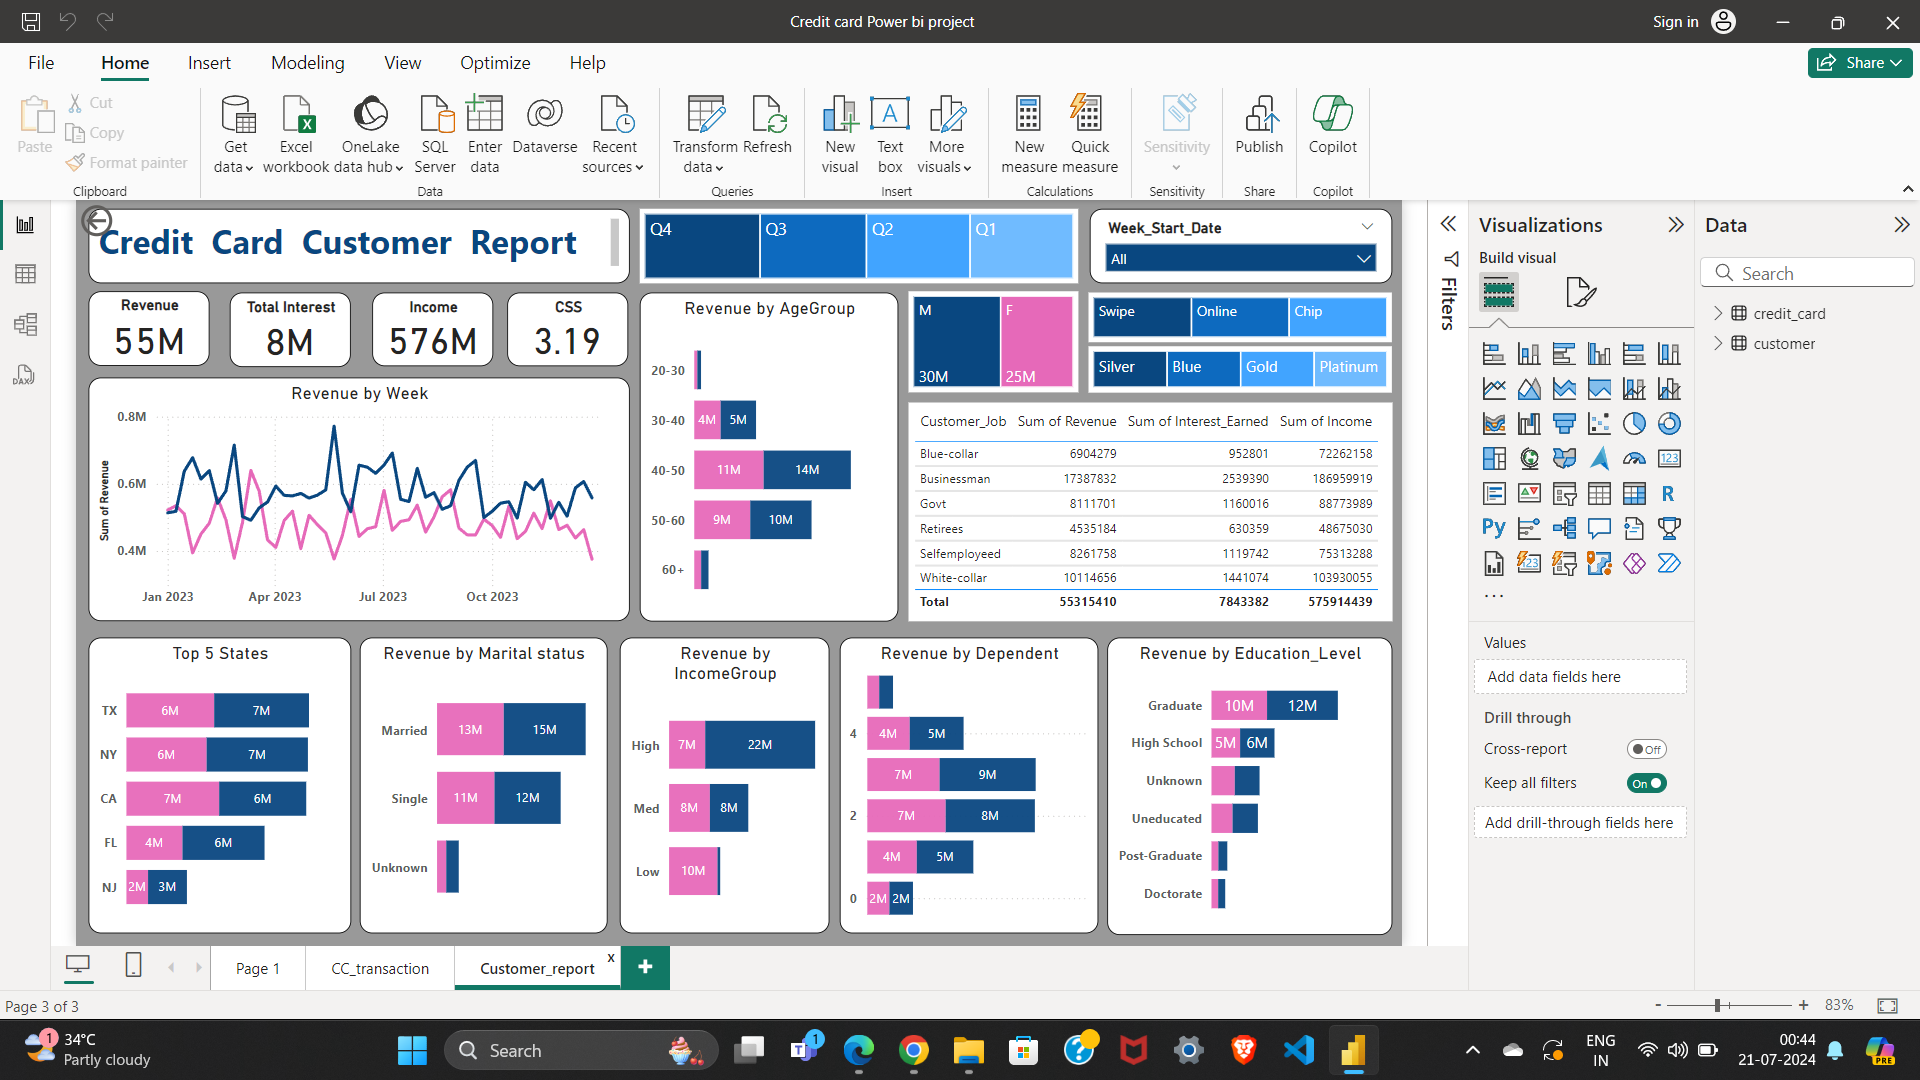

What the dashboard file says about the page in this screenshot:
{"tool":"powerbi","page":{"name":"Customer_report","canvas":[1280,720],"ordinal":2},"visuals":[{"type":"textbox","box":[12.1,8.4,522.4,72.4],"z":0},{"type":"tableEx","fields":{"Values":["customer.Customer_Job","Sum(credit_card.Revenue)","Sum(credit_card.Interest_Earned)","Sum(customer.Income)"]},"box":[803.5,195.4,466.9,211.1],"z":1000},{"type":"card","title":"Revenue","fields":{"Values":["Sum(credit_card.Revenue)"]},"box":[12.1,88.1,117,72.4],"z":2000},{"type":"card","title":"Total Interest","fields":{"Values":["Sum(credit_card.Interest_Earned)"]},"box":[148.4,89.3,117,72.4],"z":3000},{"type":"card","title":"Income","fields":{"Values":["Sum(customer.Income)"]},"box":[285.9,89.3,117,71.2],"z":4000},{"type":"card","title":"CSS","fields":{"Values":["Avg(customer.Cust_Satisfaction_Score)"]},"box":[416.2,89.3,117,71.2],"z":5000},{"type":"slicer","fields":{"Values":["credit_card.Week_Start_Date"]},"box":[978.4,8.4,292,72.4],"z":6000},{"type":"treemap","fields":{"Group":["credit_card.Qtr"],"Values":["Avg(credit_card.Client_Num)"]},"box":[544.1,8.4,423.5,72.4],"z":7000},{"type":"treemap","fields":{"Values":["Avg(credit_card.Client_Num)"],"Group":["credit_card.Card_Category"]},"box":[977.2,141.2,293.2,44.6],"z":8000},{"type":"lineChart","title":"Revenue by Week","fields":{"Y":["Sum(credit_card.Revenue)"],"Series":["customer.Gender"],"Category":["credit_card.Week_Start_Date.Variation.Date Hierarchy.Year","credit_card.Week_Start_Date.Variation.Date Hierarchy.Month","credit_card.Week_Start_Date.Variation.Date Hierarchy.Day"]},"box":[12.1,171.3,522.4,235.3],"z":9000},{"type":"treemap","fields":{"Group":["customer.Gender"],"Values":["Sum(credit_card.Revenue)"]},"box":[803.5,88.1,164.1,97.7],"z":10000},{"type":"barChart","title":" Revenue by IncomeGroup","fields":{"Category":["customer.IncomeGroup"],"Y":["Sum(credit_card.Revenue)"],"Series":["customer.Gender"]},"box":[524.8,422.3,202.7,285.9],"z":11000},{"type":"barChart","title":" Revenue by AgeGroup","fields":{"Category":["customer.AgeGroup"],"Y":["Sum(credit_card.Revenue)"],"Series":["customer.Gender"]},"box":[544.1,89.3,249.7,317.3],"z":12000},{"type":"barChart","title":"Revenue by Dependent","fields":{"Category":["customer.Dependent_Count"],"Y":["Sum(credit_card.Revenue)"],"Series":["customer.Gender"]},"box":[737.1,422.3,249.7,285.9],"z":13000},{"type":"barChart","title":" Revenue by Education_Level","fields":{"Category":["customer.Education_Level"],"Y":["Sum(credit_card.Revenue)"],"Series":["customer.Gender"]},"box":[995.3,422.3,275.1,287.1],"z":14000},{"type":"barChart","title":"Top 5 States","fields":{"Category":["customer.state_cd"],"Y":["Sum(credit_card.Revenue)"],"Series":["customer.Gender"]},"box":[12.1,422.3,253.4,285.9],"z":15000},{"type":"barChart","title":" Revenue by Marital status","fields":{"Category":["customer.Marital_Status"],"Y":["Sum(credit_card.Revenue)"],"Series":["customer.Gender"]},"box":[273.9,422.3,238.9,285.9],"z":16000},{"type":"actionButton","box":[0,0,100,40],"z":17000},{"type":"treemap","fields":{"Group":["credit_card.Use Chip"],"Values":["Avg(credit_card.Client_Num)"]},"box":[977.2,89.3,293.2,48.3],"z":18000}]}

Visuals, with their boxes on the page's 1280x720 design canvas (x1, y1, x2, y2). These are canvas units, not pixel positions in the 1920x1080 screenshot, which may show the page scaled, cropped or inside an application window:
textbox: locate(12, 8, 534, 81)
tableEx - customer.Customer_Job x Sum(credit_card.Revenue): locate(804, 195, 1270, 406)
"Revenue" card: locate(12, 88, 129, 160)
"Total Interest" card: locate(148, 89, 265, 162)
"Income" card: locate(286, 89, 403, 160)
"CSS" card: locate(416, 89, 533, 160)
slicer - credit_card.Week_Start_Date: locate(978, 8, 1270, 81)
treemap - credit_card.Qtr x Avg(credit_card.Client_Num): locate(544, 8, 968, 81)
treemap - Avg(credit_card.Client_Num) x credit_card.Card_Category: locate(977, 141, 1270, 186)
"Revenue by Week" lineChart: locate(12, 171, 534, 407)
treemap - customer.Gender x Sum(credit_card.Revenue): locate(804, 88, 968, 186)
" Revenue by IncomeGroup" barChart: locate(525, 422, 728, 708)
" Revenue by AgeGroup" barChart: locate(544, 89, 794, 407)
"Revenue by Dependent" barChart: locate(737, 422, 987, 708)
" Revenue by Education_Level" barChart: locate(995, 422, 1270, 709)
"Top 5 States" barChart: locate(12, 422, 266, 708)
" Revenue by Marital status" barChart: locate(274, 422, 513, 708)
actionButton: locate(0, 0, 100, 40)
treemap - credit_card.Use Chip x Avg(credit_card.Client_Num): locate(977, 89, 1270, 138)
